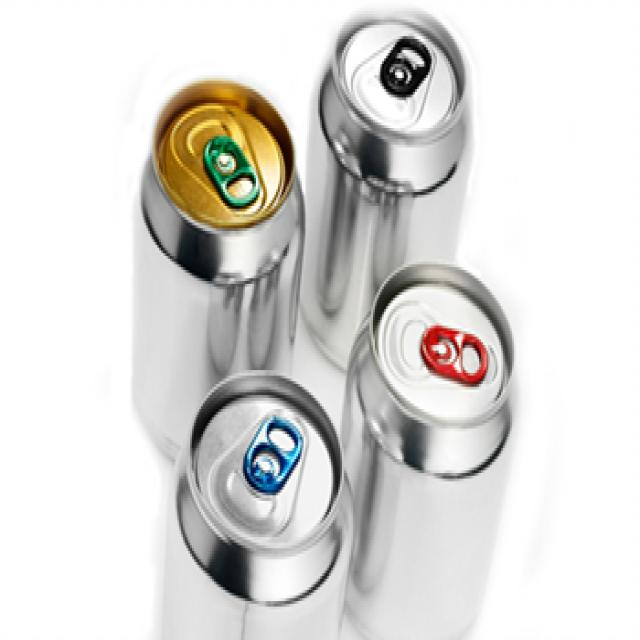non-organic waste: (115, 52, 305, 481), (338, 248, 526, 640), (310, 0, 480, 410), (167, 378, 360, 640)
